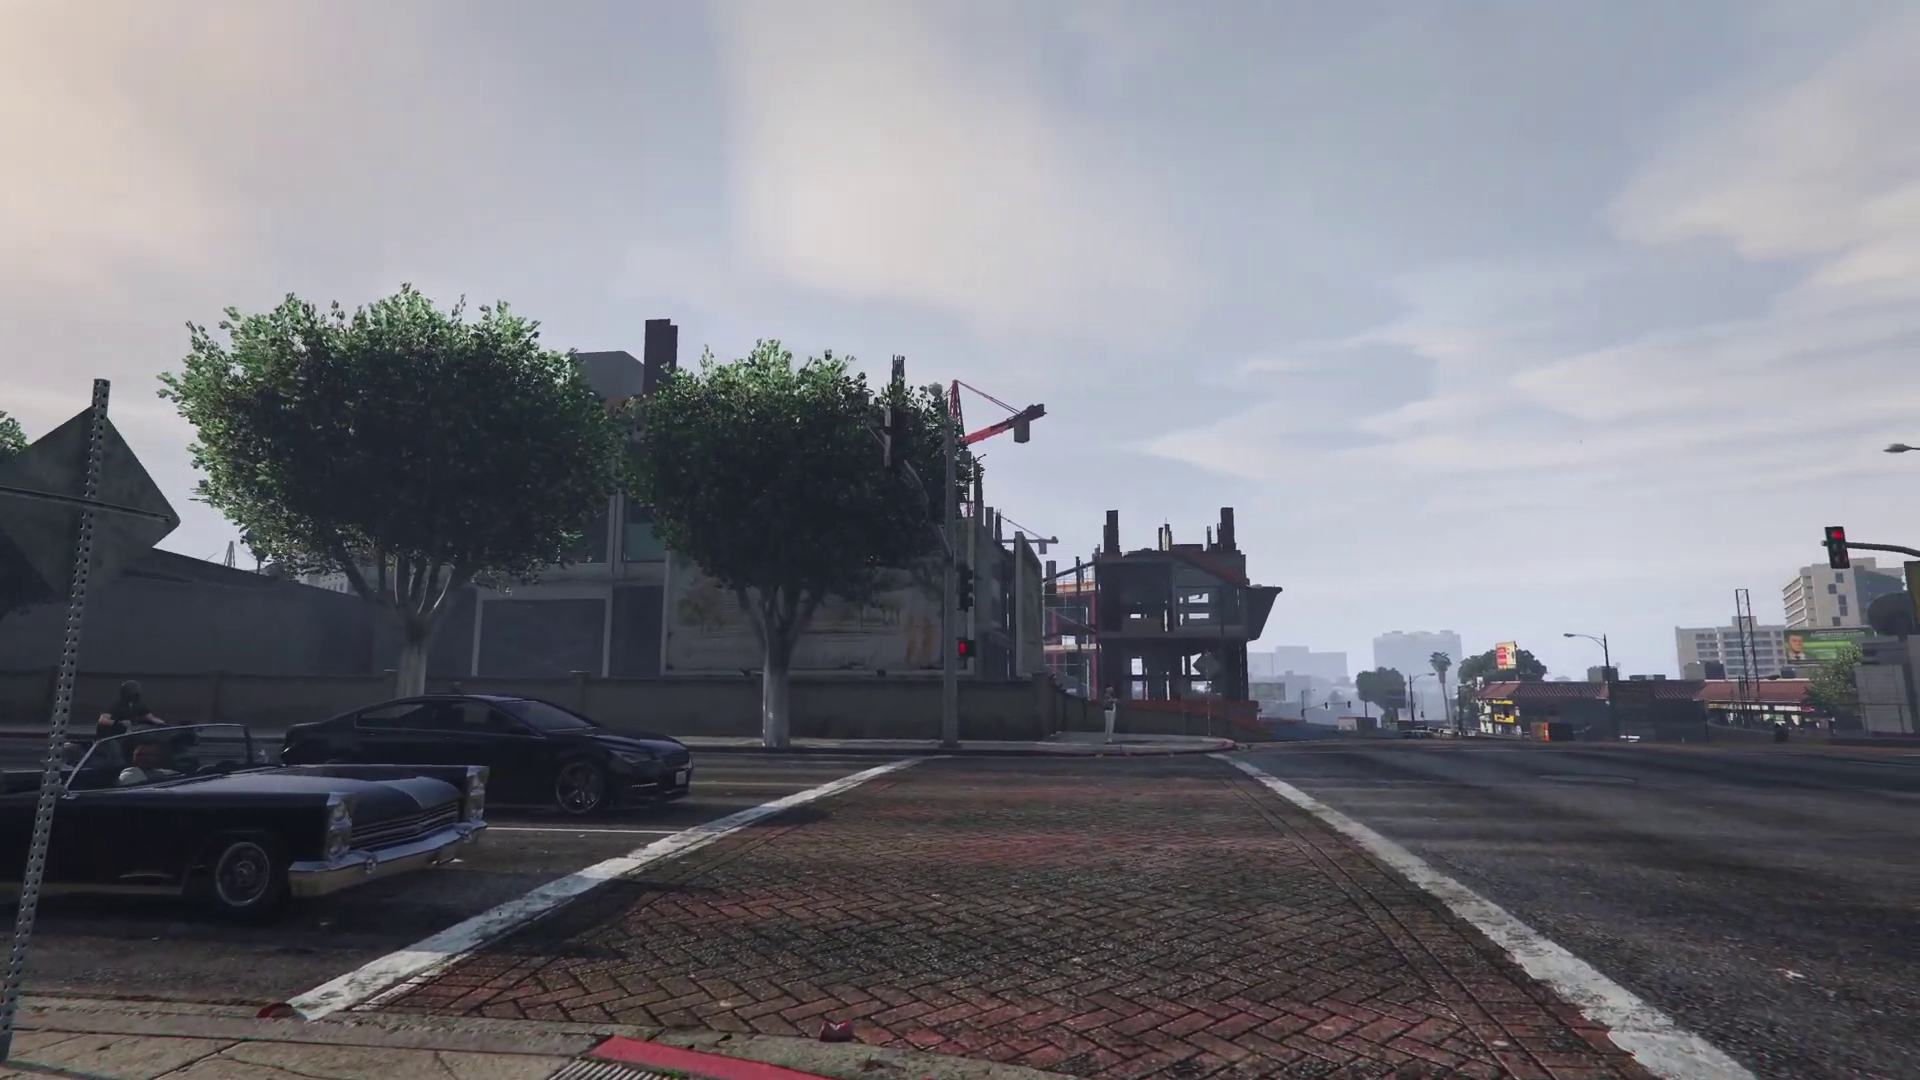car: (1, 723, 492, 917), (279, 693, 695, 815)
person: (97, 679, 161, 735), (119, 743, 176, 789), (1101, 687, 1118, 743)
traffic light: (884, 406, 903, 470), (1826, 525, 1849, 570), (958, 566, 971, 613), (957, 636, 976, 659)
